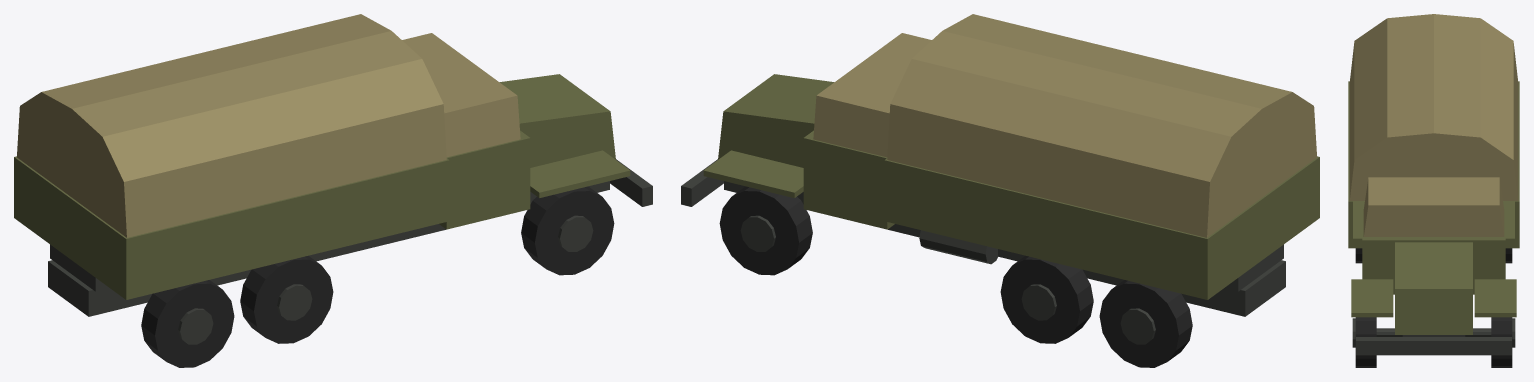
The model's file is us_cckw_25-ton_truck.obj.
3 renders of one model, left to right at view 1: azimuth 30°, elevation 25°; view 2: azimuth 150°, elevation 25°; view 3: azimuth 270°, elevation 25°, orthographic. The views are drawn at different scales.
Bounding box in the file's own units: 6.04 × 2.58 × 2.2.
